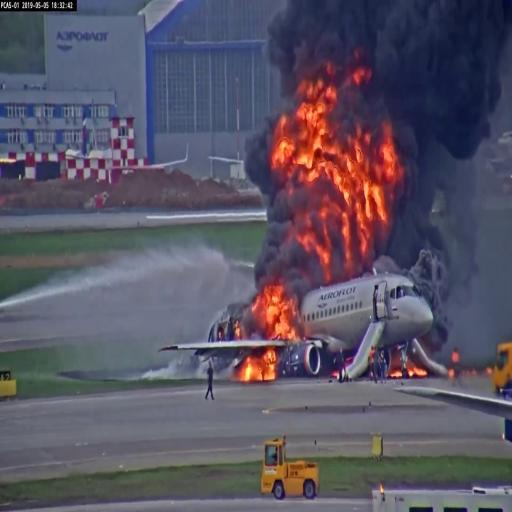fire: (292, 106, 345, 178), (261, 289, 290, 335), (245, 354, 274, 385)
smoke: (373, 0, 512, 158)
